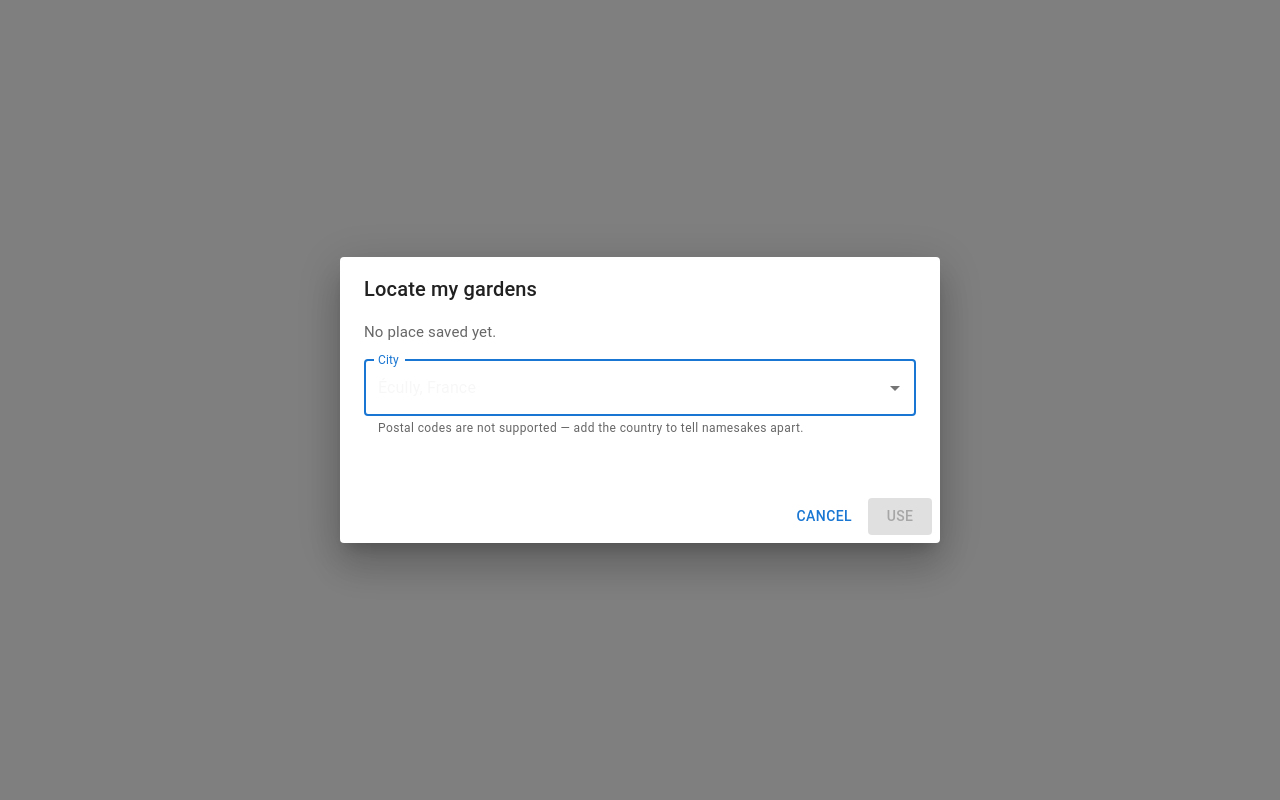
Scenario: LocationDialog — searching and picking › previews the picked place and enables Use
In the dropdown labelled "City": [625, 388] box [373, 368, 877, 406], type "Lyon"
Wait 400 ms
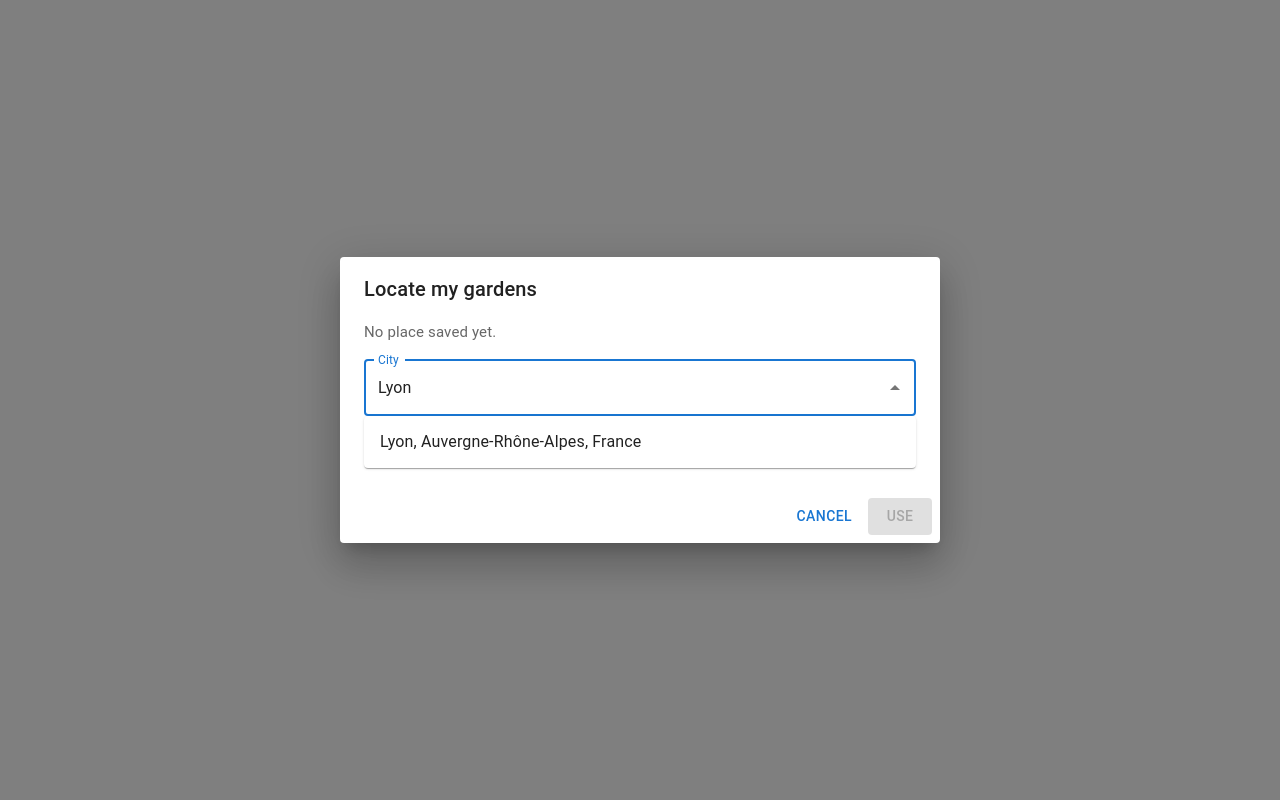
Click the option "Lyon, Auvergne-Rhône-Alpes, France": [511, 442] box [380, 432, 641, 451]
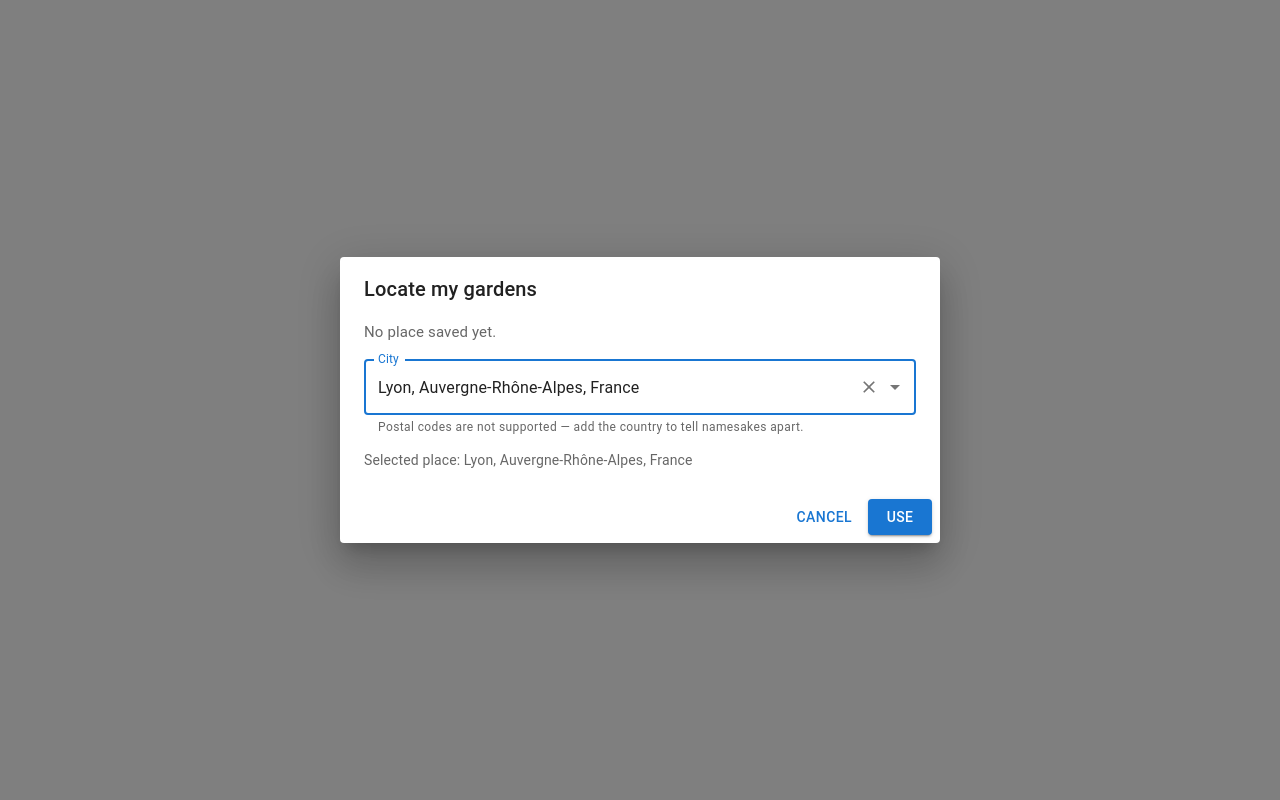
Expected: the text "Selected place: Lyon, Auvergne-Rhône-Alpes, France" is shown, [364, 452, 693, 468]
Expected: the button "Use" is enabled, [868, 499, 932, 536]
